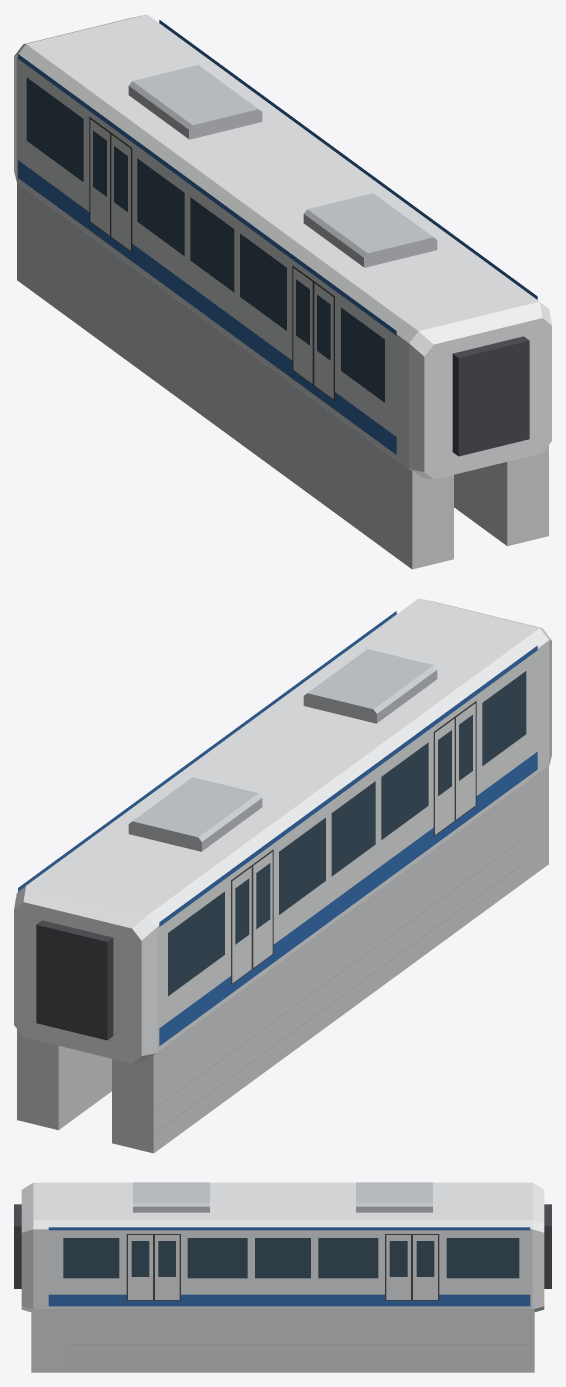
3 renders of one model, top to bottom at view 1: azimuth 30°, elevation 25°; view 2: azimuth 150°, elevation 25°; view 3: azimuth 270°, elevation 25°, orthographic. The views are drawn at different scales.
Visible parts, largest first — view 1: 309; view 2: 309; view 3: 309.
Part boxes in pixels (x1=…): 309: x1=14, y1=14, x2=551, y2=569; 309: x1=14, y1=598, x2=551, y2=1153; 309: x1=14, y1=1182, x2=551, y2=1372.
Size of the model in its own units: 2.72 by 4.55 by 14.
